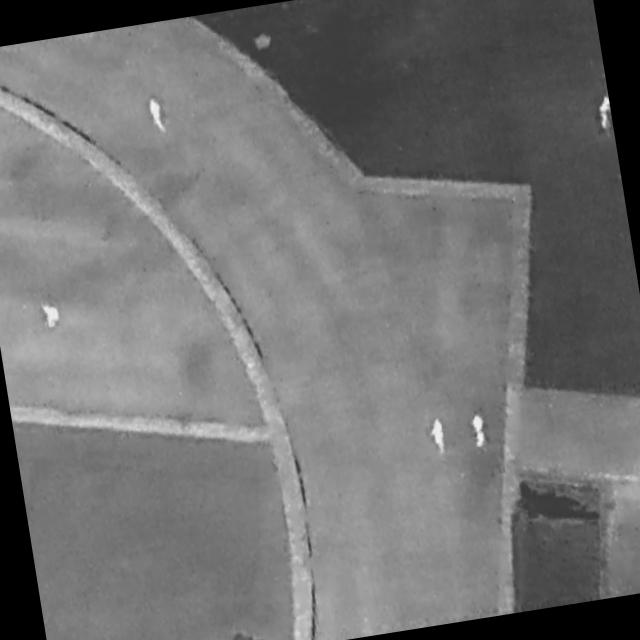person: (471, 413, 489, 450), (430, 418, 448, 455), (149, 99, 166, 135), (42, 301, 62, 331), (599, 95, 615, 130)
